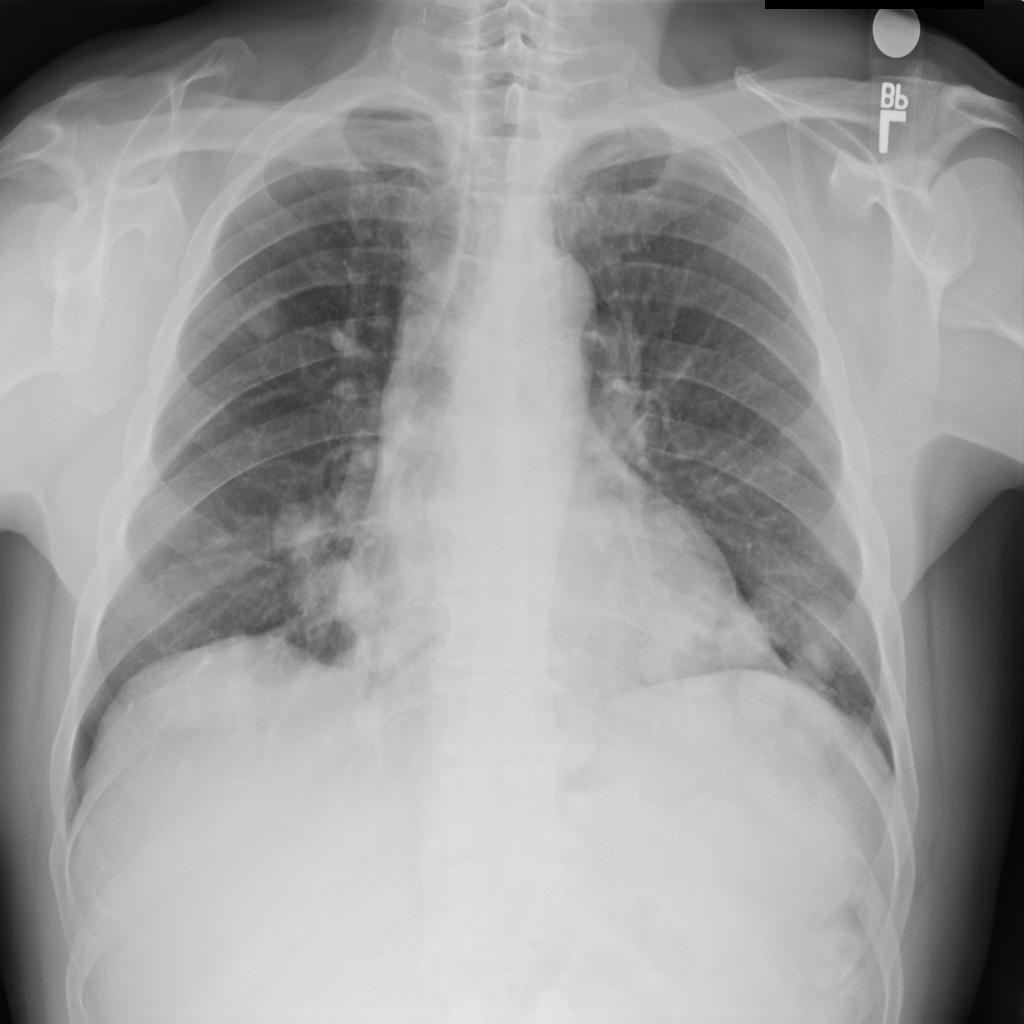nodule: (287, 533, 396, 648), (786, 594, 883, 676), (707, 595, 787, 669), (265, 488, 340, 565), (627, 624, 702, 698), (227, 276, 299, 350), (728, 667, 801, 738), (766, 429, 814, 483)
